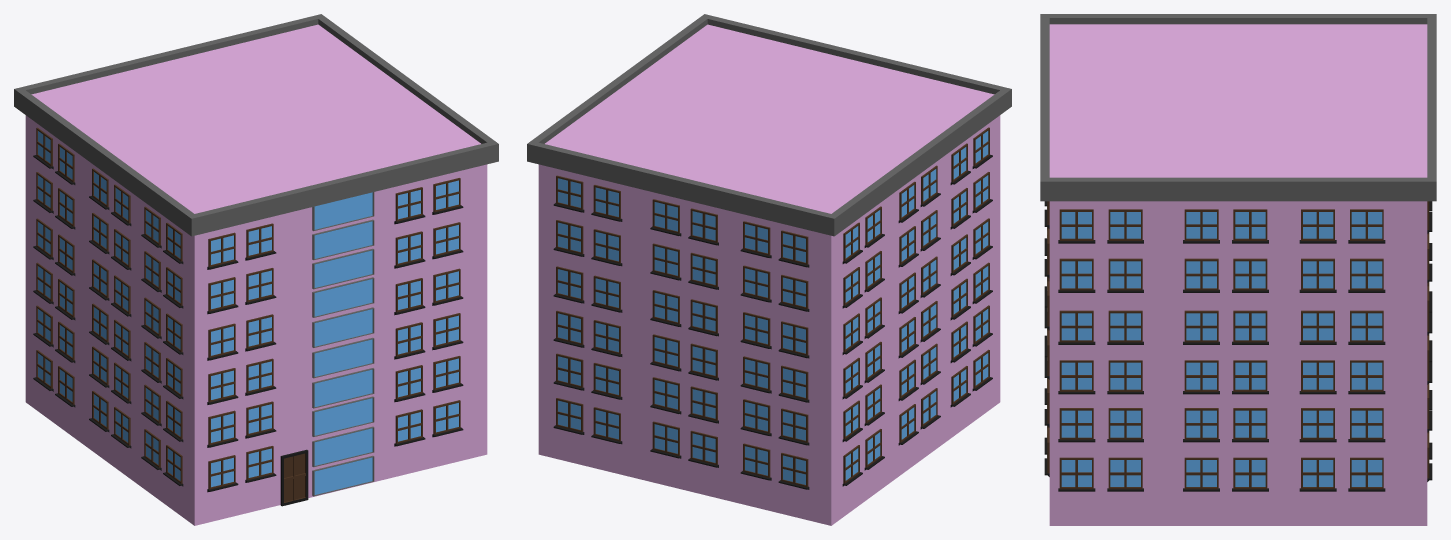
Rendered from cityasset_house_6.fbx.
The picture shows the model from 3 angles, left to right: view 1: azimuth 30°, elevation 25°; view 2: azimuth 150°, elevation 25°; view 3: azimuth 270°, elevation 25°; orthographic projection. The views are drawn at different scales.
Visible parts, largest first — view 1: Cube.003, Cube.006, Cube.001, Cube.005, Cube.013, Cube.014, Cube.002, Cube.011, Cube.012, Cube.004, Cube.015, Cube.009 (+60 smaller); view 2: Cube.003, Cube.088, Cube.096, Cube.078, Cube.093, Cube.100, Cube.086, Cube.094, Cube.108, Cube.087, Cube.095, Cube.097 (+61 smaller); view 3: Cube.003, Cube.050, Cube.040, Cube.042, Cube.044, Cube.046, Cube.048, Cube.041, Cube.043, Cube.049, Cube.065, Cube.066 (+25 smaller).
Boxes of the visible parts, <box> form: Cube.003: <box>14,14,498,525</box>; Cube.006: <box>312,455,374,496</box>; Cube.001: <box>312,426,374,467</box>; Cube.005: <box>312,337,374,378</box>; Cube.013: <box>312,248,374,289</box>; Cube.014: <box>312,219,374,260</box>; Cube.002: <box>312,396,374,436</box>; Cube.011: <box>312,307,374,347</box>; Cube.012: <box>312,277,374,317</box>; Cube.004: <box>312,368,374,408</box>; Cube.015: <box>312,192,374,231</box>; Cube.009: <box>280,449,308,506</box>; Cube.003: <box>527,14,1011,525</box>; Cube.088: <box>740,443,771,480</box>; Cube.096: <box>740,265,771,302</box>; Cube.078: <box>553,353,584,390</box>; Cube.093: <box>778,321,809,358</box>; Cube.100: <box>650,421,681,458</box>; Cube.086: <box>553,175,584,212</box>; Cube.094: <box>740,312,771,349</box>; Cube.108: <box>650,243,681,280</box>; Cube.087: <box>778,453,809,489</box>; Cube.095: <box>778,275,809,311</box>; Cube.097: <box>778,230,809,267</box>; Cube.003: <box>1040,14,1436,525</box>; Cube.050: <box>1058,209,1095,243</box>; Cube.040: <box>1058,457,1095,491</box>; Cube.042: <box>1058,408,1095,442</box>; Cube.044: <box>1058,360,1095,394</box>; Cube.046: <box>1058,310,1095,344</box>; Cube.048: <box>1058,258,1095,292</box>; Cube.041: <box>1107,408,1143,442</box>; Cube.043: <box>1107,360,1143,394</box>; Cube.049: <box>1107,209,1143,243</box>; Cube.065: <box>1232,408,1268,442</box>; Cube.066: <box>1183,408,1219,442</box>.
Bounding box in the file's own units: 422 × 410 × 422.
